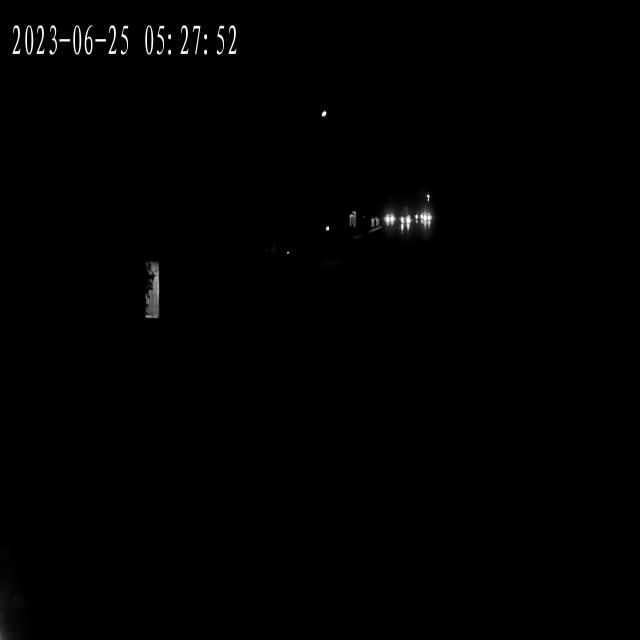Car: (382, 212, 396, 227), (422, 213, 432, 227), (402, 217, 412, 230)
